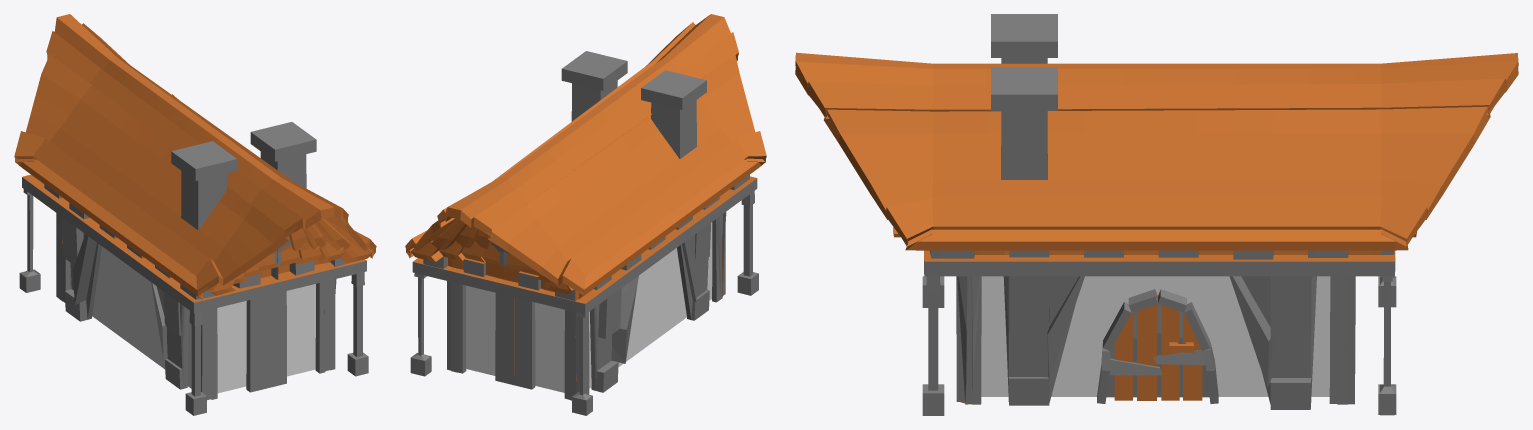
Rendered from guild1.fbx.
The picture shows the model from 3 angles, left to right: view 1: azimuth 30°, elevation 25°; view 2: azimuth 150°, elevation 25°; view 3: azimuth 270°, elevation 25°; orthographic projection. The views are drawn at different scales.
Visible parts, largest first — view 1: Cube.010; view 2: Cube.010; view 3: Cube.010.
Boxes of the visible parts, box(x1,y1,x2,y2) form: Cube.010: box(14, 14, 376, 415); Cube.010: box(405, 14, 766, 415); Cube.010: box(795, 14, 1518, 415).
Size of the model in its own units: 1271 by 1520 by 3248.
